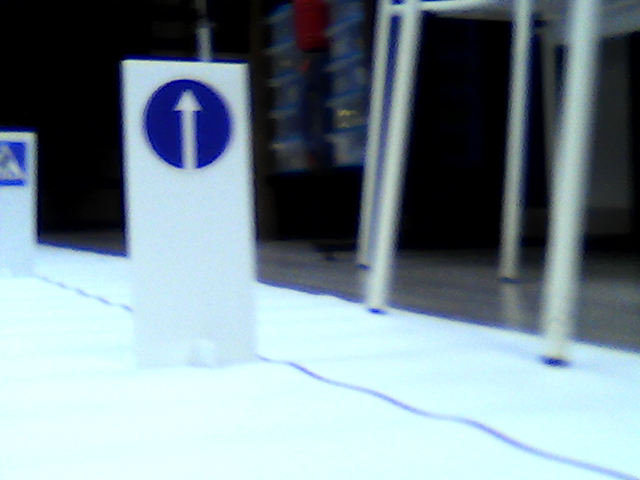forw: (143, 78, 233, 171)
pesh: (1, 137, 26, 184)
